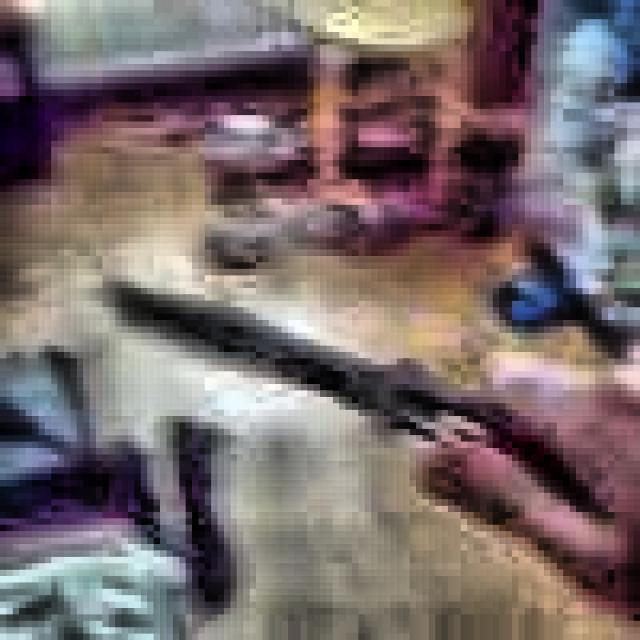knife: (118, 285, 573, 479)
